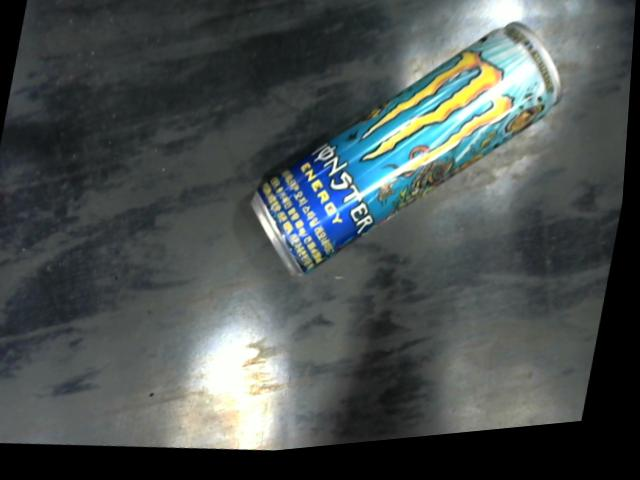can: (251, 31, 567, 285)
